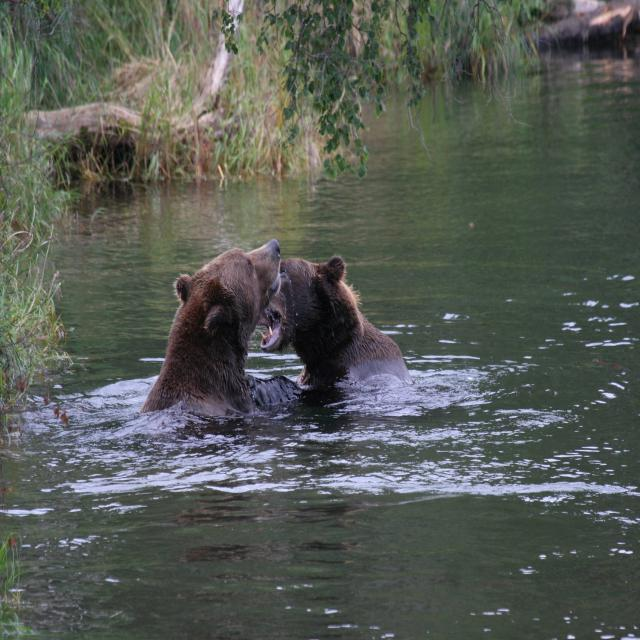bear face: (148, 238, 281, 404), (255, 258, 402, 378)
